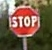stop: (7, 6, 41, 37)
